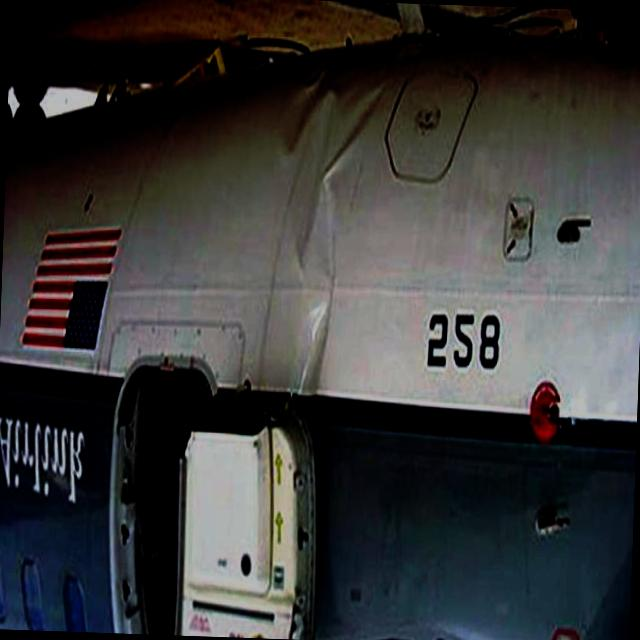dent: (272, 71, 388, 397)
